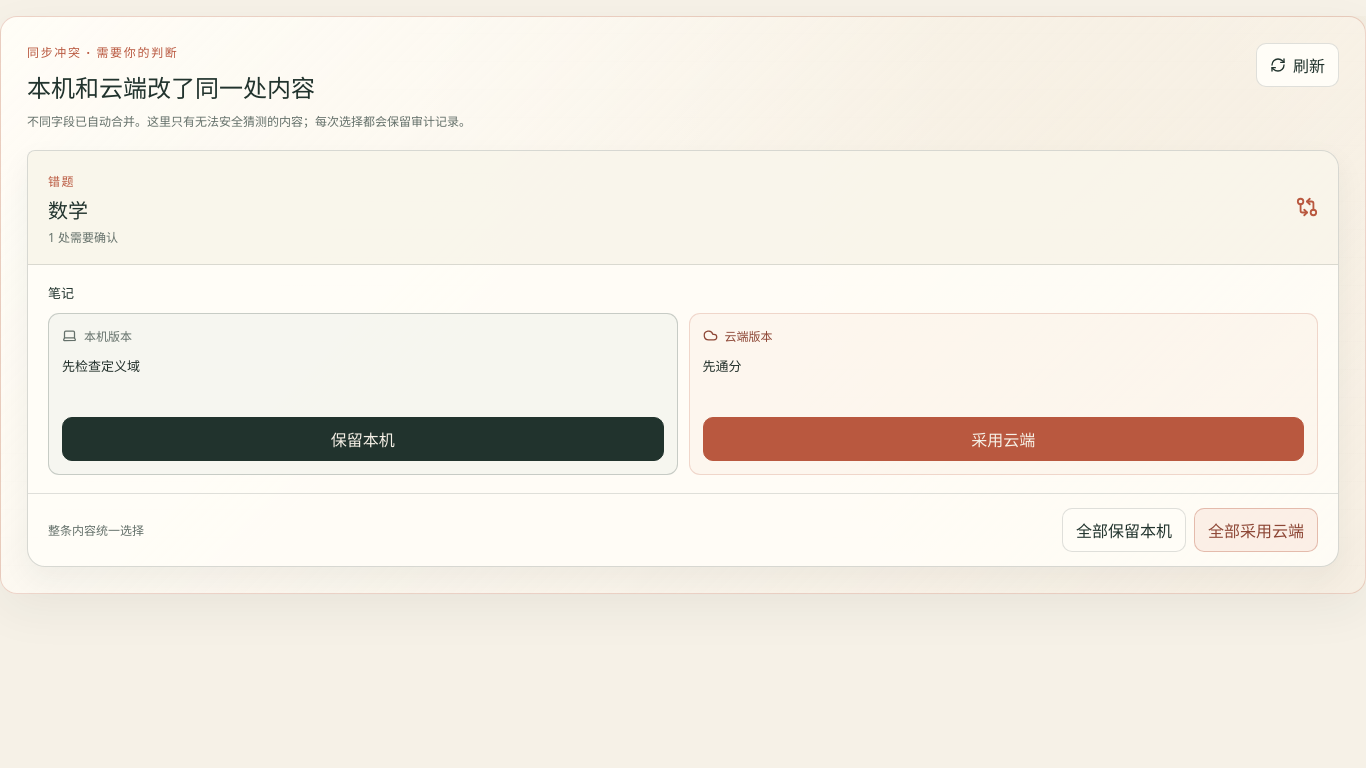
SyncConflictCenter › keeps the unresolved card visible when resolution fails
Click the button with aria-label "数学全部采用云端版本". click: point(1256, 530)
box: [1194,508,1318,552]
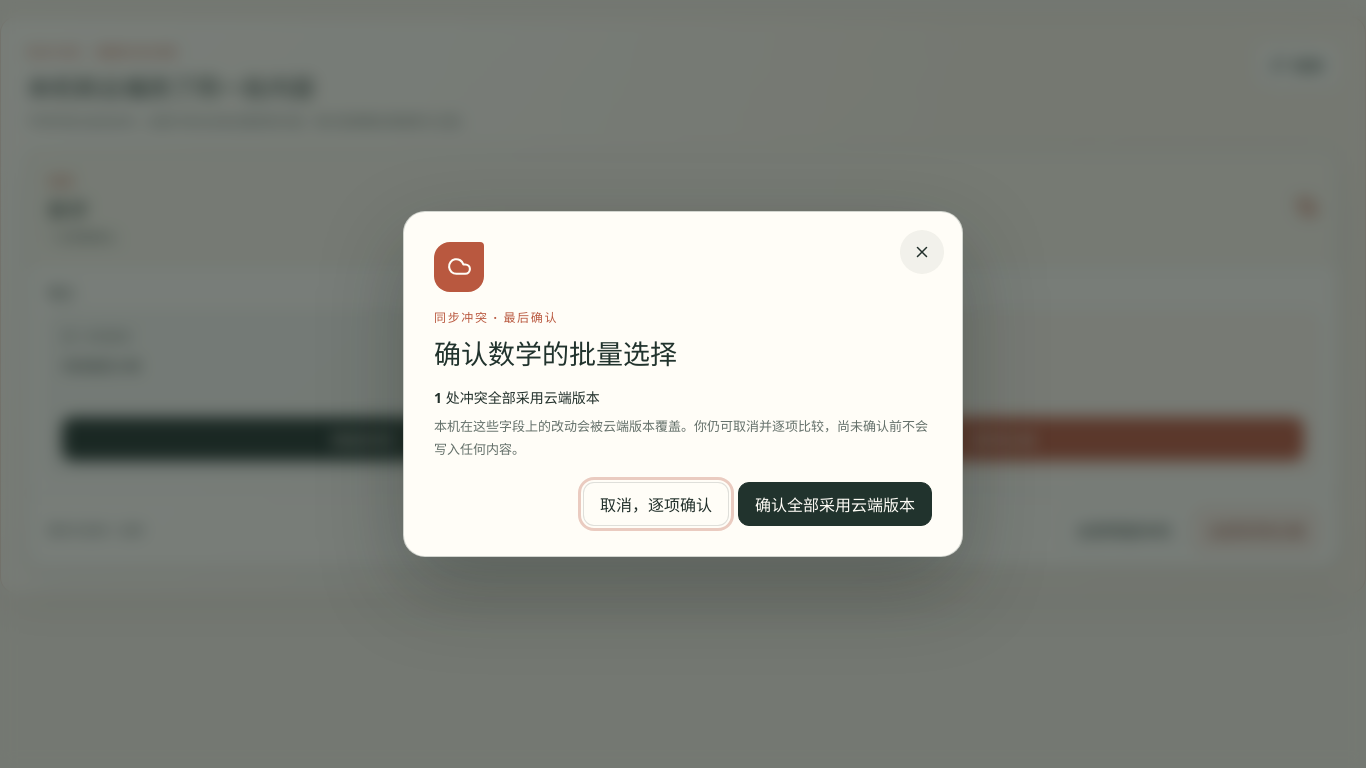
Click the button "确认全部采用云端版本". click: point(835, 504)
box: [738,482,932,526]
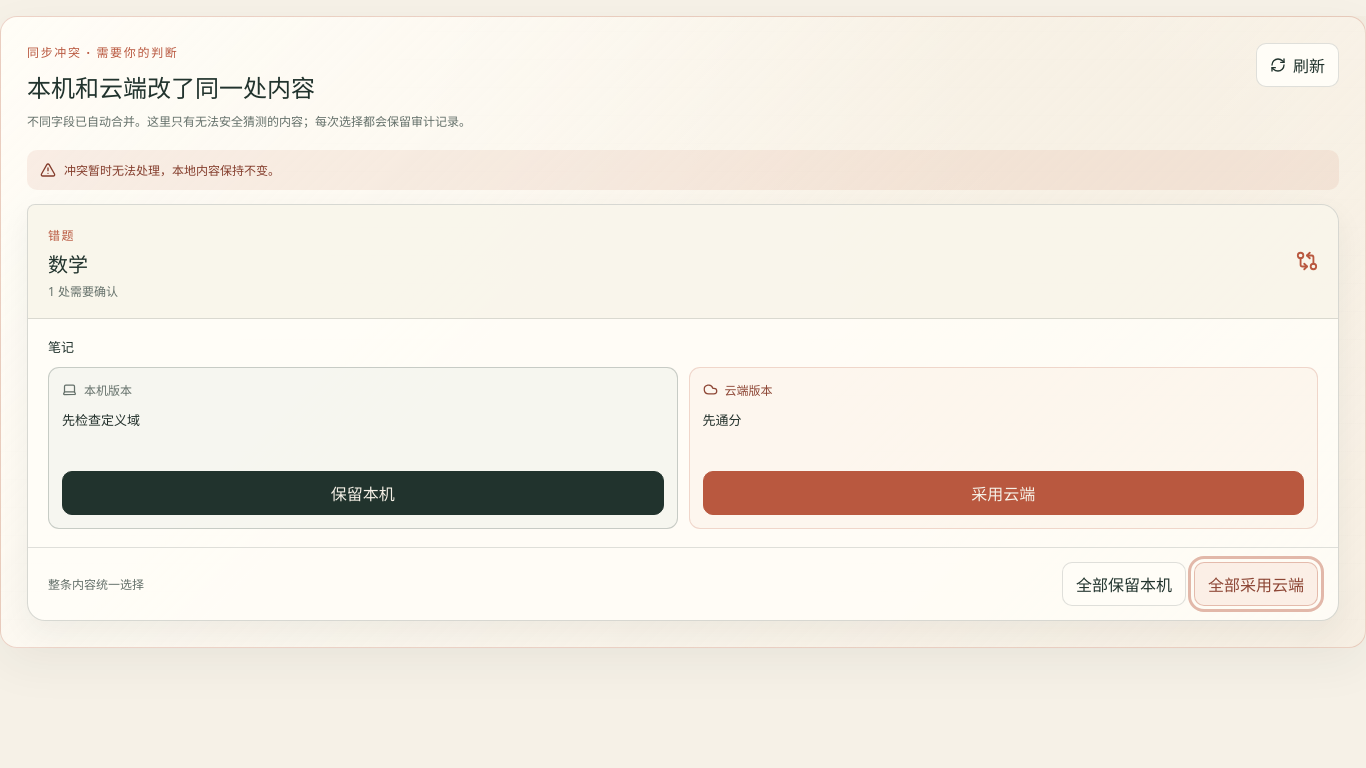
Expected: the element named "数学的同步冲突" is shown, [27,204,1339,621]
Expected: the message shows "本地内容保持不变", [64,162,280,179]
